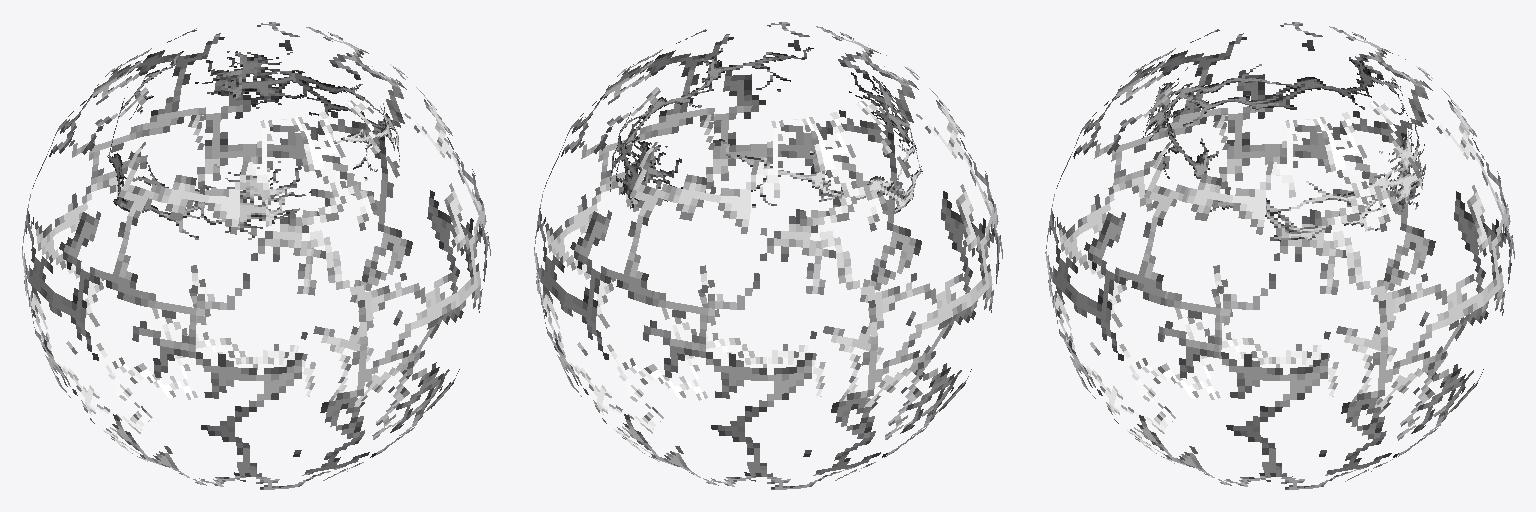
3 renders of one model, left to right at view 1: azimuth 30°, elevation 25°; view 2: azimuth 150°, elevation 25°; view 3: azimuth 270°, elevation 25°, orthographic.
Visible parts, largest first — view 1: polygon2, polygon0, polygon1; view 2: polygon2, polygon0, polygon1; view 3: polygon2, polygon0, polygon1.
Boxes of the visible parts, box(x1,y1,x2,y2) form: polygon2: box(22, 22, 490, 489); polygon0: box(195, 51, 399, 180); polygon1: box(107, 51, 311, 239); polygon2: box(534, 22, 1002, 489); polygon0: box(610, 47, 813, 208); polygon1: box(719, 72, 922, 214); polygon2: box(1045, 22, 1514, 489); polygon0: box(1160, 105, 1425, 241); polygon1: box(1142, 55, 1408, 140).
Size of the model in its own units: 20 by 17.32 by 20.
2 materials, 2 textured.